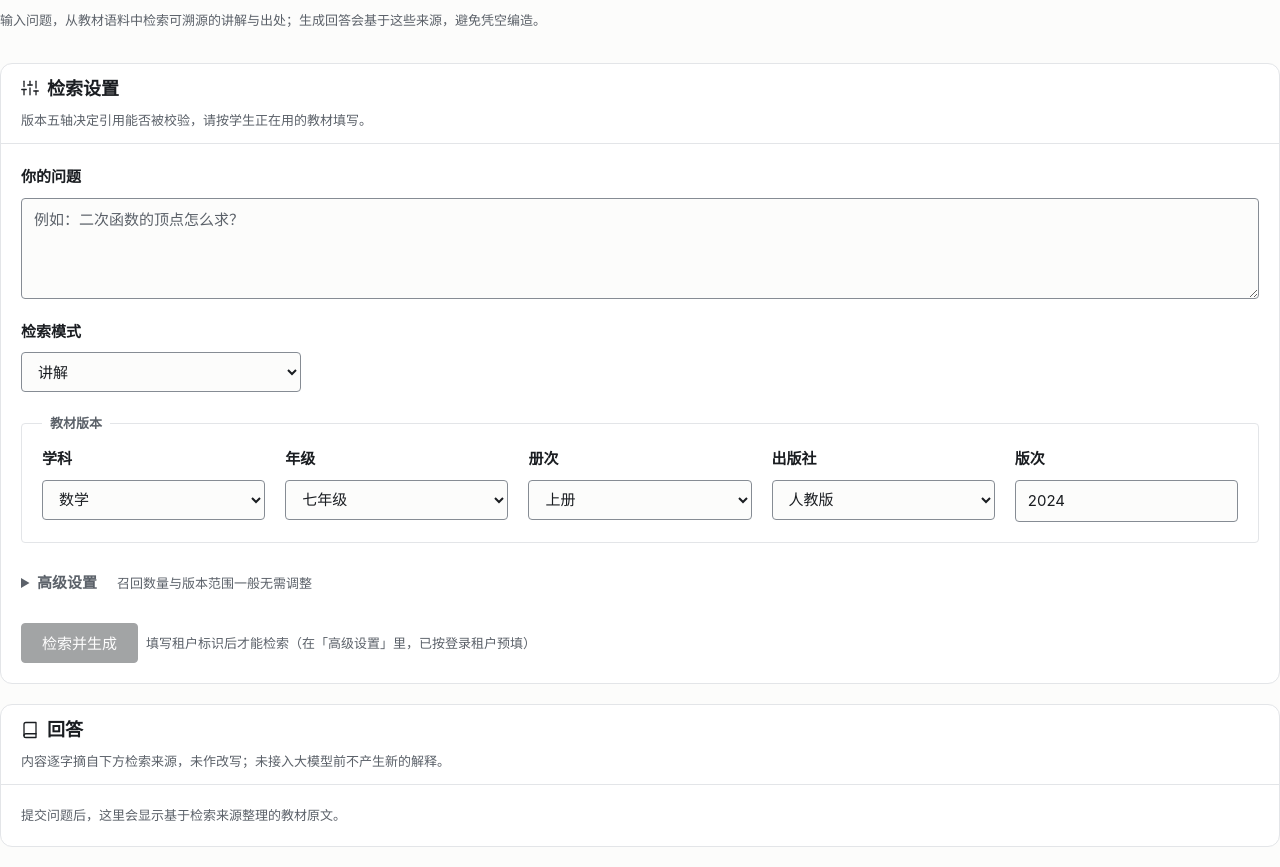
知识检索页（FE-RAG 接线） › ⛔ 诚实空态：0 命中 ≠ 故障
Type "很冷门的问题" into the text box labelled "你的问题" at (640, 248), box [21,198,1259,299]
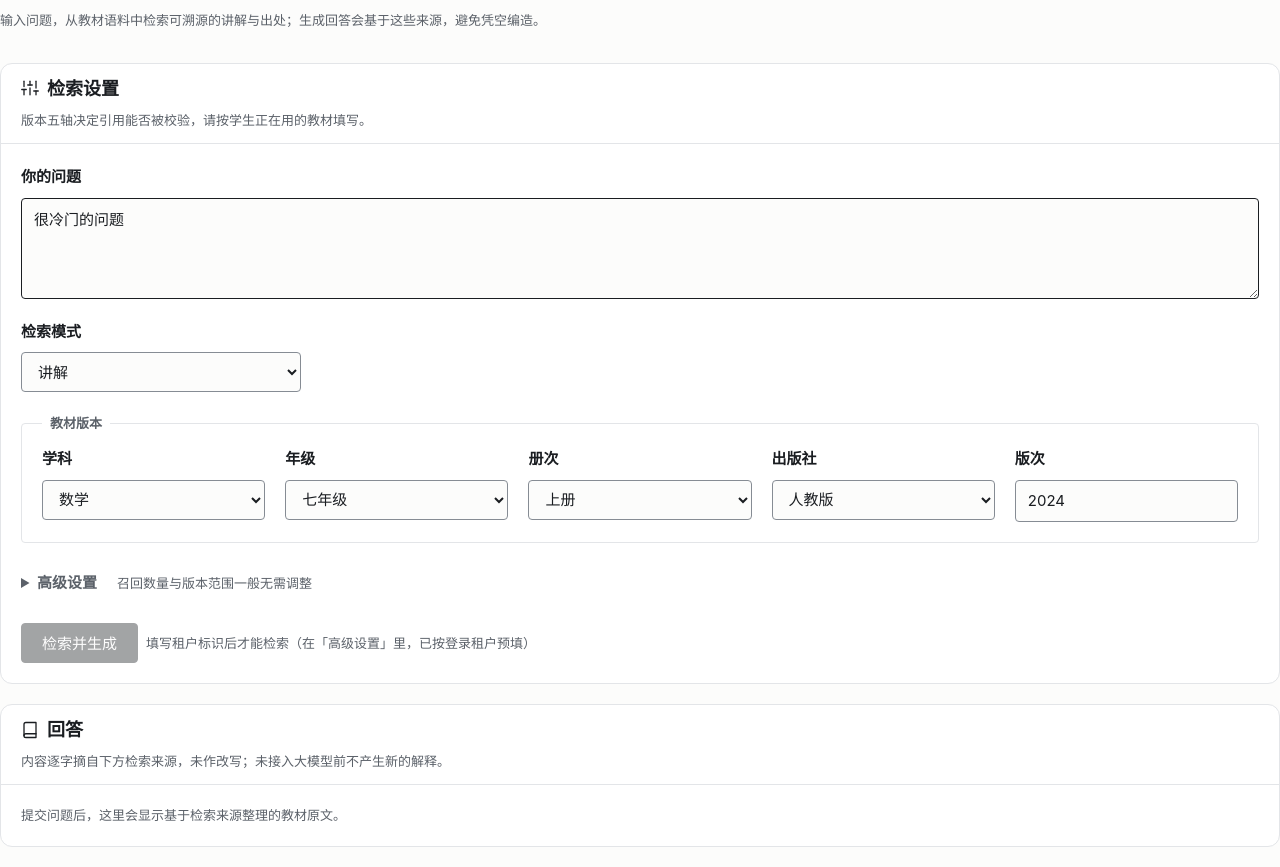
Click the heading "高级设置" at (67, 582), box [37,573,97,592]
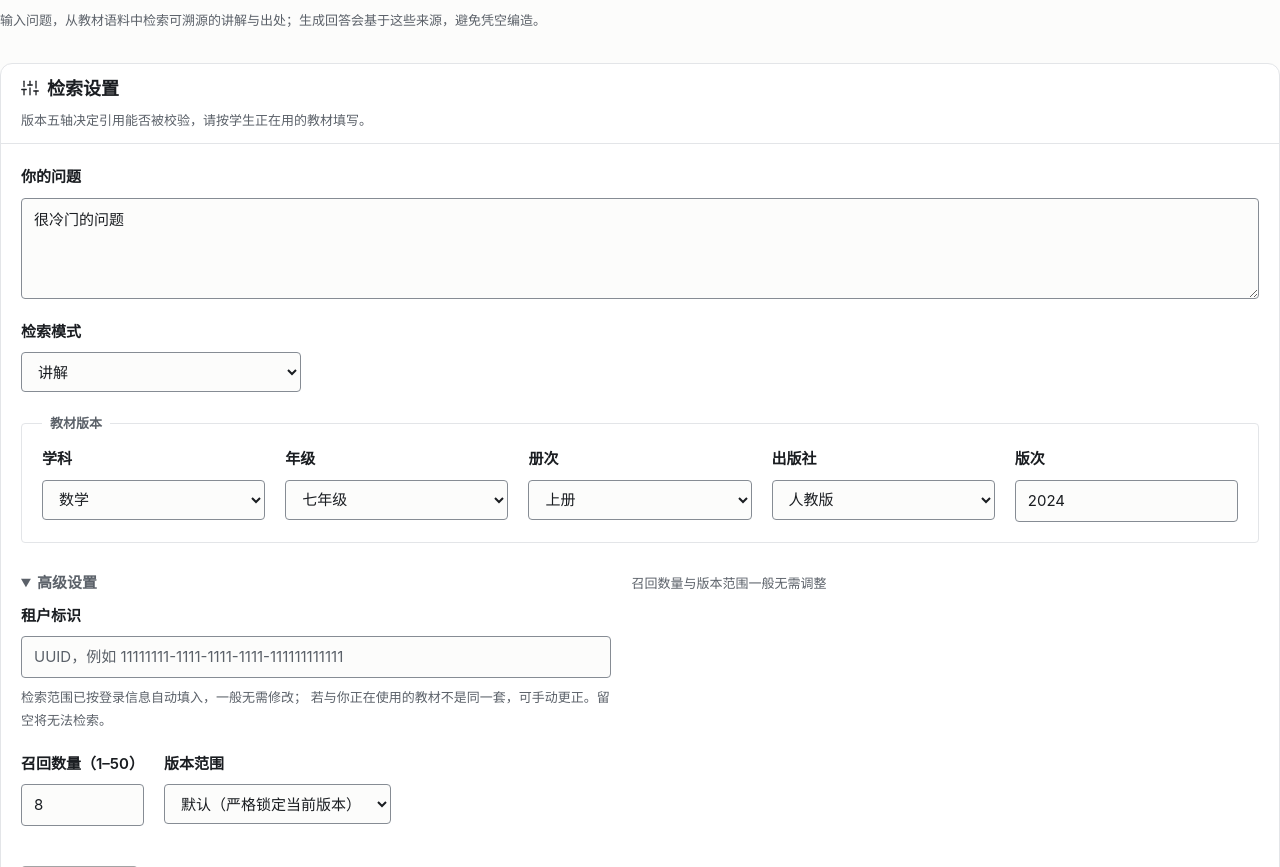
Type "11111111-1111-1111-1111-111111111111" into the field labelled "租户标识" at (316, 657), box [21,636,612,678]
(page scrolled)
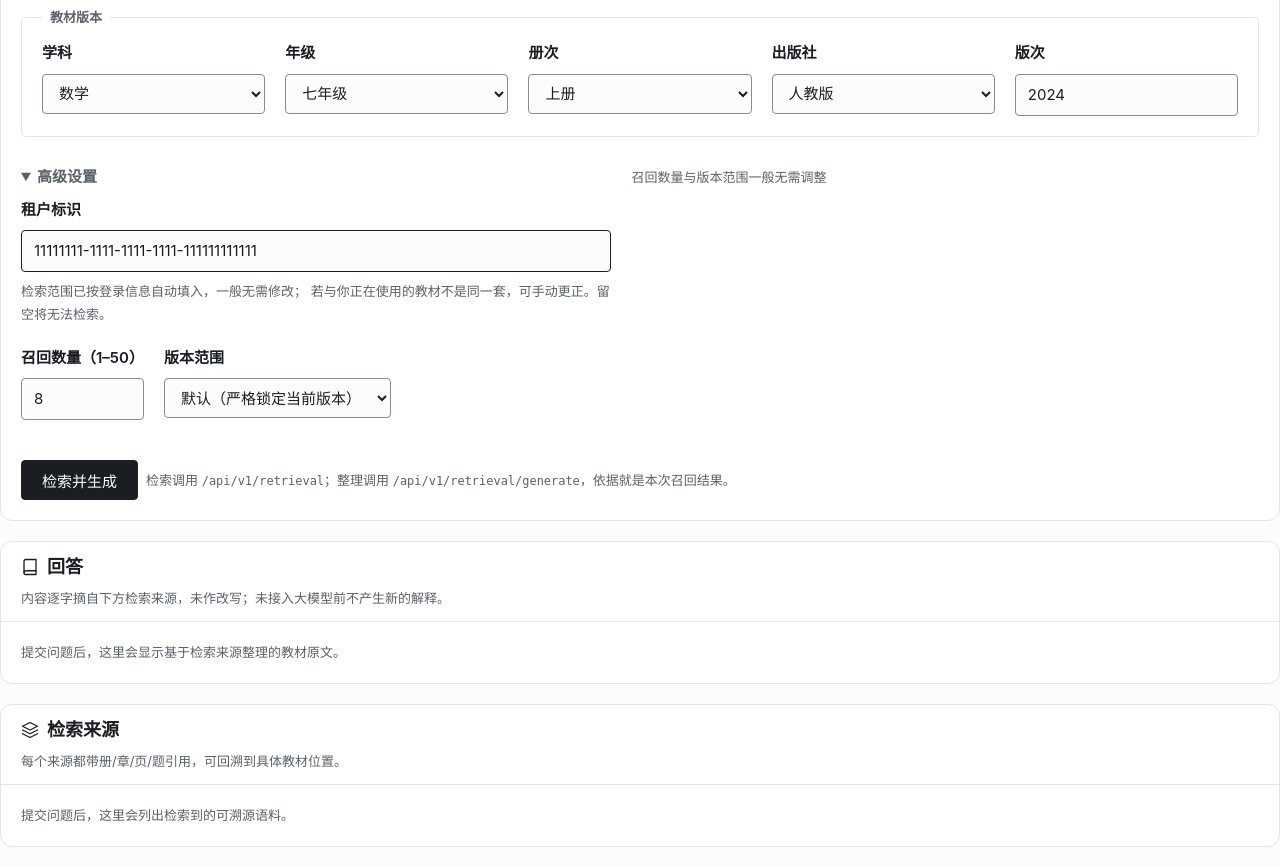
Click the button "检索并生成" at (80, 480), box [21,460,138,500]
(page scrolled)
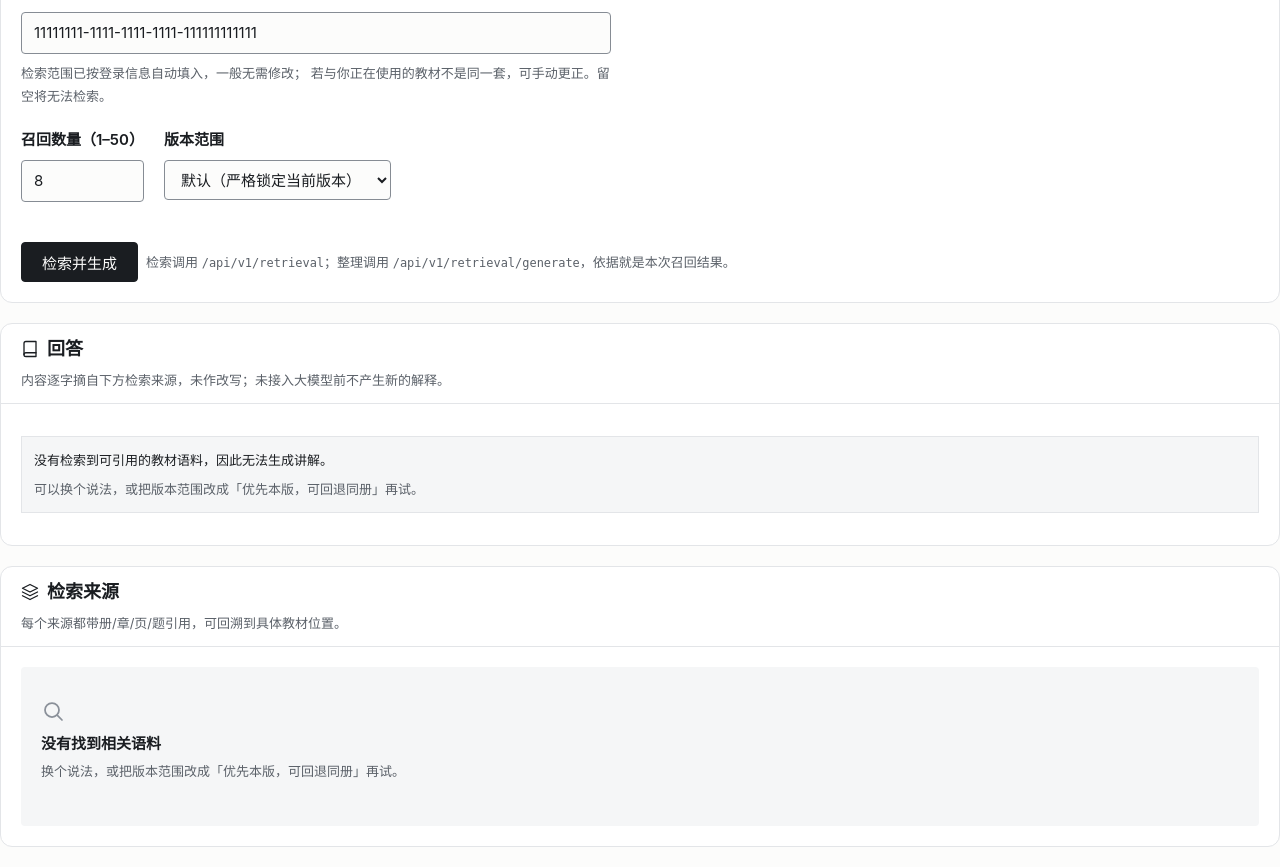
Expected: the text "没有找到相关语料" is shown, [41,734,161,753]
